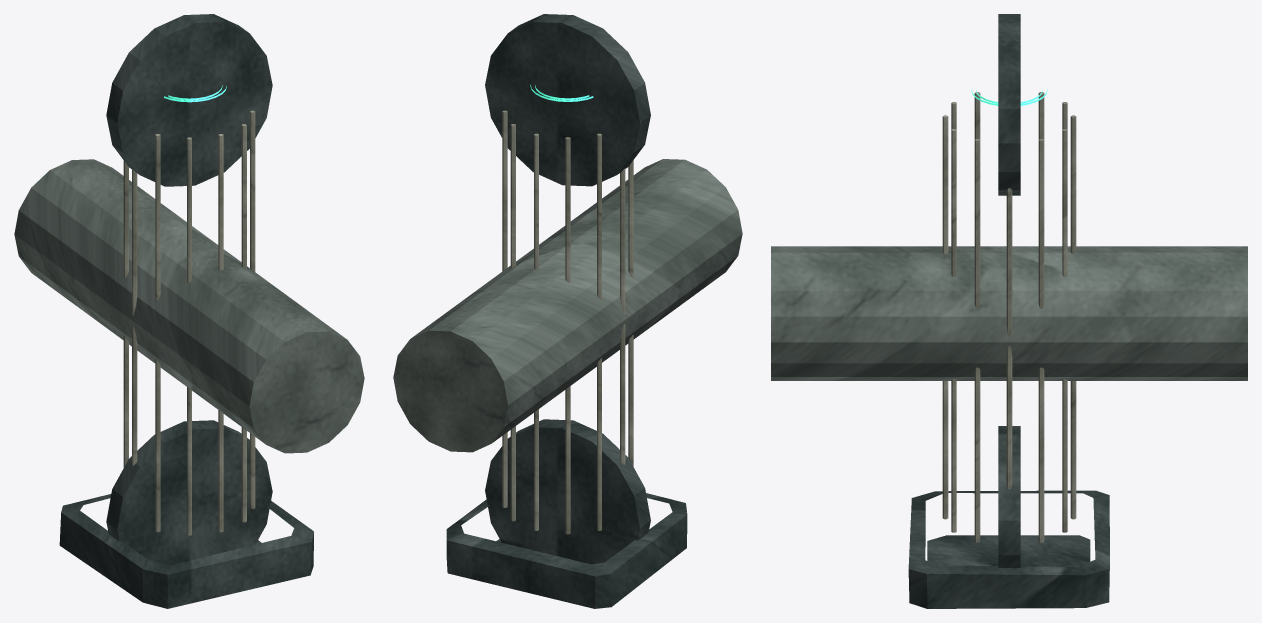
File: 0280_fluted_column_05.glb
The picture shows the model from 3 angles, left to right: view 1: azimuth 30°, elevation 25°; view 2: azimuth 150°, elevation 25°; view 3: azimuth 270°, elevation 25°; orthographic projection.
Parts seen in each view (by area): view 1: stone_dark, stone, stone_light; view 2: stone_dark, stone, stone_light; view 3: stone, stone_dark, stone_light.
Part boxes in pixels (<box>): stone_dark: <box>59,14,313,608</box>; stone: <box>14,159,364,453</box>; stone_light: <box>123,110,255,535</box>; stone_dark: <box>446,14,687,608</box>; stone: <box>393,159,742,452</box>; stone_light: <box>502,110,633,534</box>; stone: <box>771,246,1247,380</box>; stone_dark: <box>908,14,1109,608</box>; stone_light: <box>942,92,1076,542</box>.
Size of the model in its own units: 1.26 by 4.01 by 3.
Materials: 4 (4 with a texture image).
